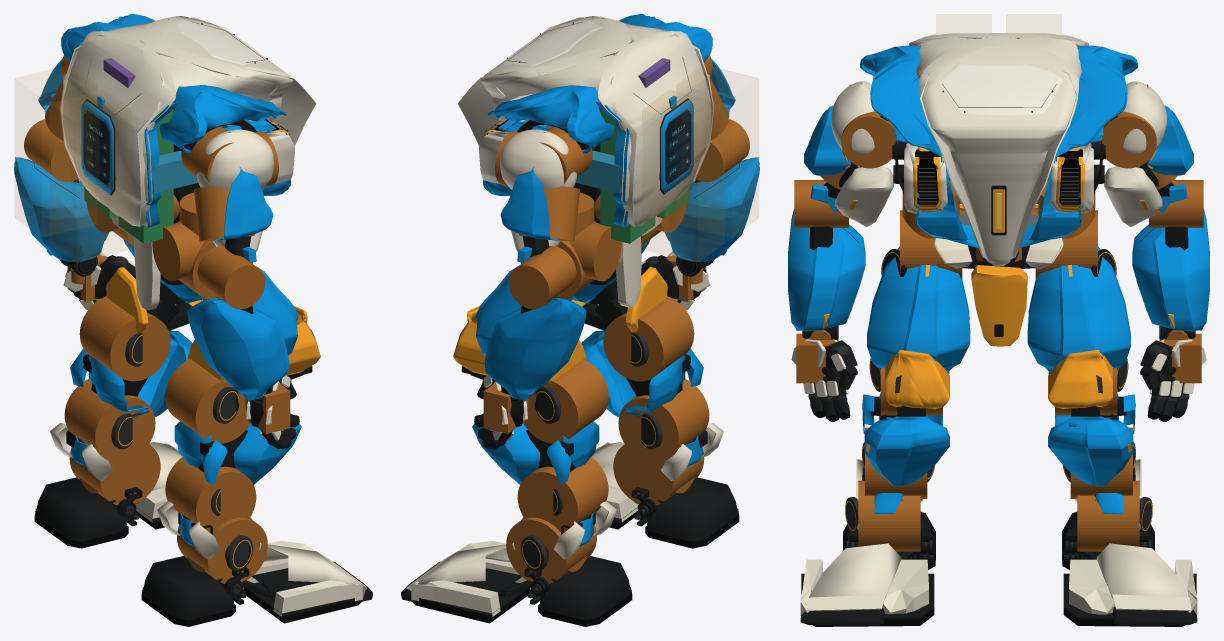
File: internal_architecture_a_rotary_electric.glb
3 views of the same model, side by side, from view 1: azimuth 30°, elevation 25°; view 2: azimuth 150°, elevation 25°; view 3: azimuth 270°, elevation 25° (orthographic). The views are drawn at different scales.
Visible parts, largest first — view 1: continuous_ivory_torso_armor_cover, internal_ia_right_battery_removal_space_envelope, right_blue_forearm_wrap, internal_ia_left_battery_removal_space_envelope, left_blue_forearm_wrap, internal_ia_rotary_electric_left_knee_pitch_envelope, right_ivory_hood_window_side_lip, internal_ia_rotary_electric_right_fold_pitch_envelope, internal_ia_rotary_electric_left_fold_pitch_envelope, internal_ia_rotary_electric_right_knee_pitch_envelope, left_composite_high_heel_shell, right_composite_high_heel_shell (+52 smaller); view 2: continuous_ivory_torso_armor_cover, internal_ia_left_battery_removal_space_envelope, left_blue_forearm_wrap, internal_ia_right_battery_removal_space_envelope, right_blue_forearm_wrap, left_ivory_hood_window_side_lip, internal_ia_rotary_electric_right_knee_pitch_envelope, internal_ia_rotary_electric_left_fold_pitch_envelope, internal_ia_rotary_electric_right_fold_pitch_envelope, internal_ia_rotary_electric_left_knee_pitch_envelope, right_composite_high_heel_shell, left_composite_high_heel_shell (+52 smaller); view 3: continuous_ivory_torso_armor_cover, right_blue_thigh_wrap, left_blue_thigh_wrap, left_blue_forearm_wrap, right_blue_forearm_wrap, ivory_crown_inset, left_blue_middle_shank_wrap, right_blue_middle_shank_wrap, saffron_front_pelvis_cartridge, left_ivory_artwork_sloping_toe, right_ivory_artwork_sloping_toe, left_yellow_front_knee_insert (+49 smaller).
Part boxes in pixels (bbox=[...]): continuous_ivory_torso_armor_cover: bbox=[63, 16, 293, 226]; internal_ia_right_battery_removal_space_envelope: bbox=[49, 90, 131, 262]; right_blue_forearm_wrap: bbox=[187, 298, 289, 400]; internal_ia_left_battery_removal_space_envelope: bbox=[15, 65, 96, 236]; left_blue_forearm_wrap: bbox=[14, 157, 109, 261]; internal_ia_rotary_electric_left_knee_pitch_envelope: bbox=[79, 296, 170, 381]; right_ivory_hood_window_side_lip: bbox=[136, 53, 316, 227]; internal_ia_rotary_electric_right_fold_pitch_envelope: bbox=[165, 457, 256, 532]; internal_ia_rotary_electric_left_fold_pitch_envelope: bbox=[64, 379, 155, 462]; internal_ia_rotary_electric_right_knee_pitch_envelope: bbox=[165, 359, 250, 443]; left_composite_high_heel_shell: bbox=[35, 477, 126, 541]; right_composite_high_heel_shell: bbox=[143, 556, 233, 619]; continuous_ivory_torso_armor_cover: bbox=[480, 16, 710, 226]; internal_ia_left_battery_removal_space_envelope: bbox=[642, 90, 724, 262]; left_blue_forearm_wrap: bbox=[484, 298, 586, 400]; internal_ia_right_battery_removal_space_envelope: bbox=[677, 65, 758, 236]; right_blue_forearm_wrap: bbox=[664, 157, 759, 261]; left_ivory_hood_window_side_lip: bbox=[457, 53, 637, 227]; internal_ia_rotary_electric_right_knee_pitch_envelope: bbox=[603, 296, 694, 381]; internal_ia_rotary_electric_left_fold_pitch_envelope: bbox=[517, 457, 608, 532]; internal_ia_rotary_electric_right_fold_pitch_envelope: bbox=[618, 379, 709, 462]; internal_ia_rotary_electric_left_knee_pitch_envelope: bbox=[523, 359, 608, 443]; right_composite_high_heel_shell: bbox=[647, 477, 738, 541]; left_composite_high_heel_shell: bbox=[540, 556, 630, 619]; continuous_ivory_torso_armor_cover: bbox=[909, 33, 1088, 265]; right_blue_thigh_wrap: bbox=[867, 246, 970, 372]; left_blue_thigh_wrap: bbox=[1027, 246, 1130, 372]; left_blue_forearm_wrap: bbox=[1132, 209, 1209, 331]; right_blue_forearm_wrap: bbox=[788, 209, 865, 331]; ivory_crown_inset: bbox=[938, 63, 1063, 114]; left_blue_middle_shank_wrap: bbox=[1048, 416, 1133, 485]; right_blue_middle_shank_wrap: bbox=[864, 416, 949, 485]; saffron_front_pelvis_cartridge: bbox=[971, 265, 1027, 346]; left_ivory_artwork_sloping_toe: bbox=[1096, 543, 1189, 598]; right_ivory_artwork_sloping_toe: bbox=[808, 543, 901, 598]; left_yellow_front_knee_insert: bbox=[1048, 349, 1112, 409].
Bounding box in the file's own units: 1.34 × 2.65 × 1.93.
